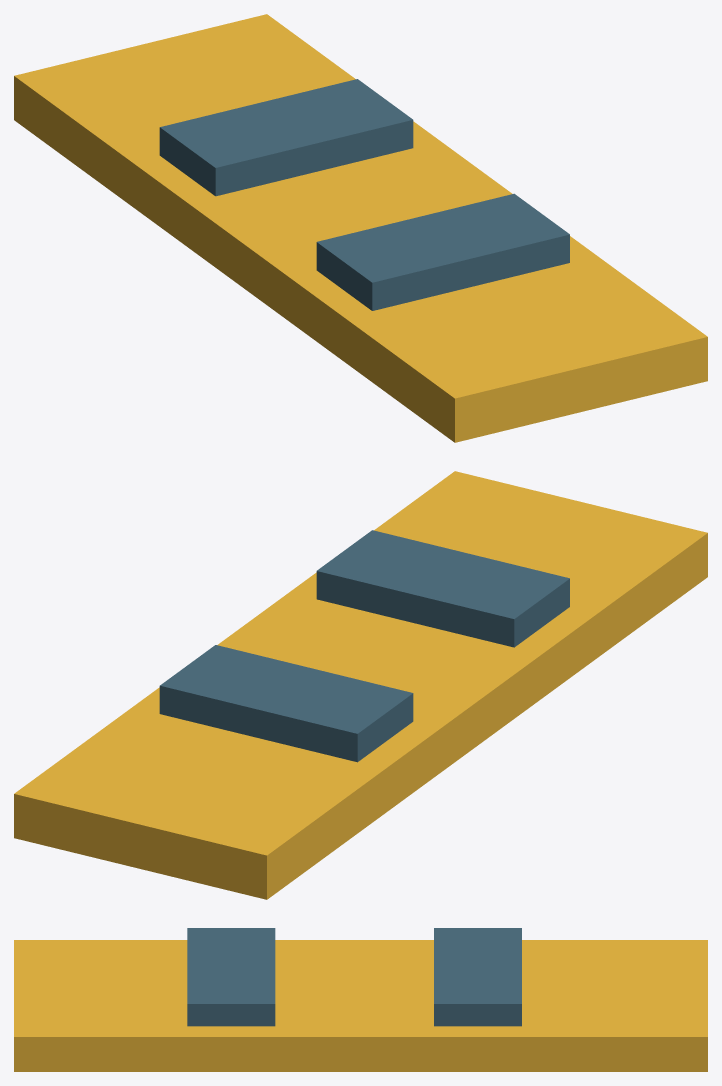
The model's file is snow-board.glb.
3 renders of one model, top to bottom at view 1: azimuth 30°, elevation 25°; view 2: azimuth 150°, elevation 25°; view 3: azimuth 270°, elevation 25°, orthographic. The views are drawn at different scales.
Visible parts, largest first — view 1: snow-board; view 2: snow-board; view 3: snow-board.
Part boxes in pixels (box(x1,y1,x2,y2)): snow-board: box(14, 14, 707, 442); snow-board: box(14, 471, 707, 899); snow-board: box(14, 928, 707, 1071).
Size of the model in its own units: 0.55 by 0.151 by 1.66.
